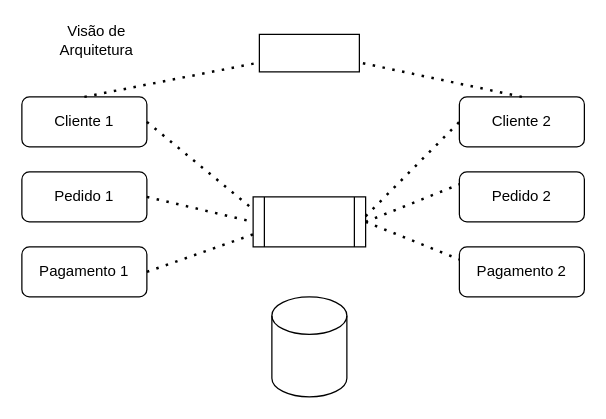
Image size: 606x419. Some labels were removed from this diagram. The shapes that lost their labels are listed below. From the top down, each one's box as (x1, y1, x2, y2) in pixels, then its label:
(258, 33, 359, 72): NGINX
(252, 196, 366, 247): RabbitMQ
(271, 296, 347, 397): Postgress
